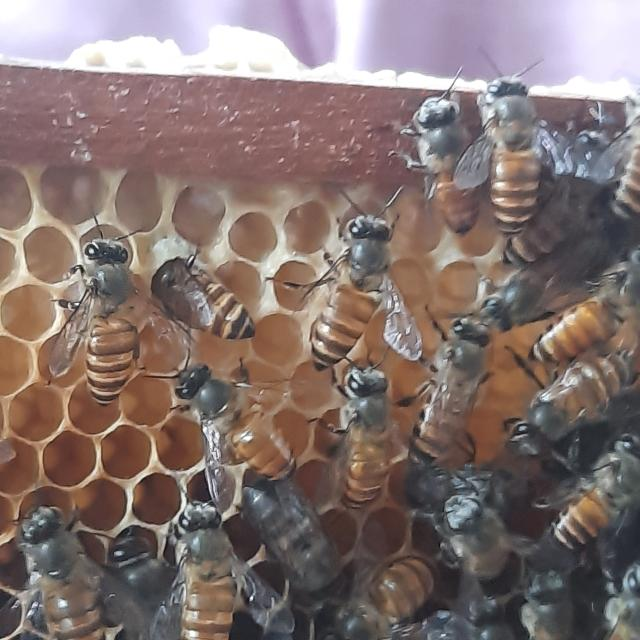honeybee: (180, 350, 308, 479), (506, 349, 640, 468), (58, 227, 142, 413), (313, 212, 404, 368), (406, 312, 489, 472), (160, 495, 250, 640), (474, 255, 640, 331), (411, 78, 485, 246), (20, 502, 106, 640), (548, 430, 640, 559), (151, 249, 260, 350), (480, 70, 548, 225), (524, 267, 640, 349), (338, 367, 399, 520), (336, 541, 424, 640), (437, 486, 511, 589), (598, 101, 640, 207), (528, 573, 576, 640), (605, 565, 640, 640)
